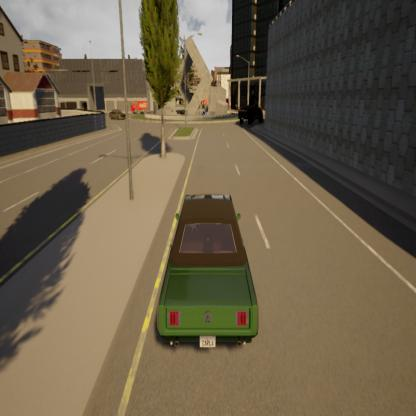Cars: (157, 192, 258, 348), (237, 104, 264, 126), (131, 98, 149, 117), (110, 108, 125, 122)
